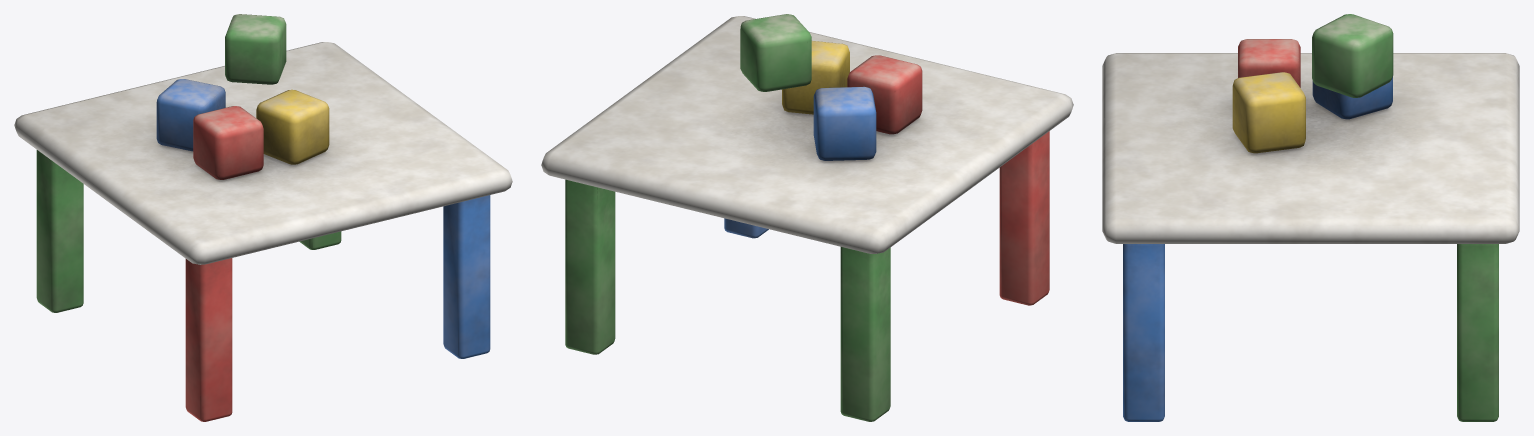
Rendered from play_table.fbx.
The picture shows the model from 3 angles, left to right: view 1: azimuth 30°, elevation 25°; view 2: azimuth 150°, elevation 25°; view 3: azimuth 270°, elevation 25°; orthographic projection. The views are drawn at different scales.
Visible parts, largest first — view 1: Body; view 2: Body; view 3: Body.
Part boxes in pixels (bbox=[...]): Body: bbox=[14, 14, 512, 421]; Body: bbox=[541, 14, 1073, 421]; Body: bbox=[1102, 14, 1519, 421].
Bounding box in the file's own units: 3 × 2.56 × 3.
1 material, 1 textured.
